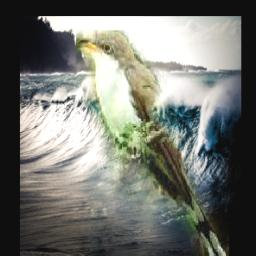Cuckoo: (75, 30, 228, 256)
